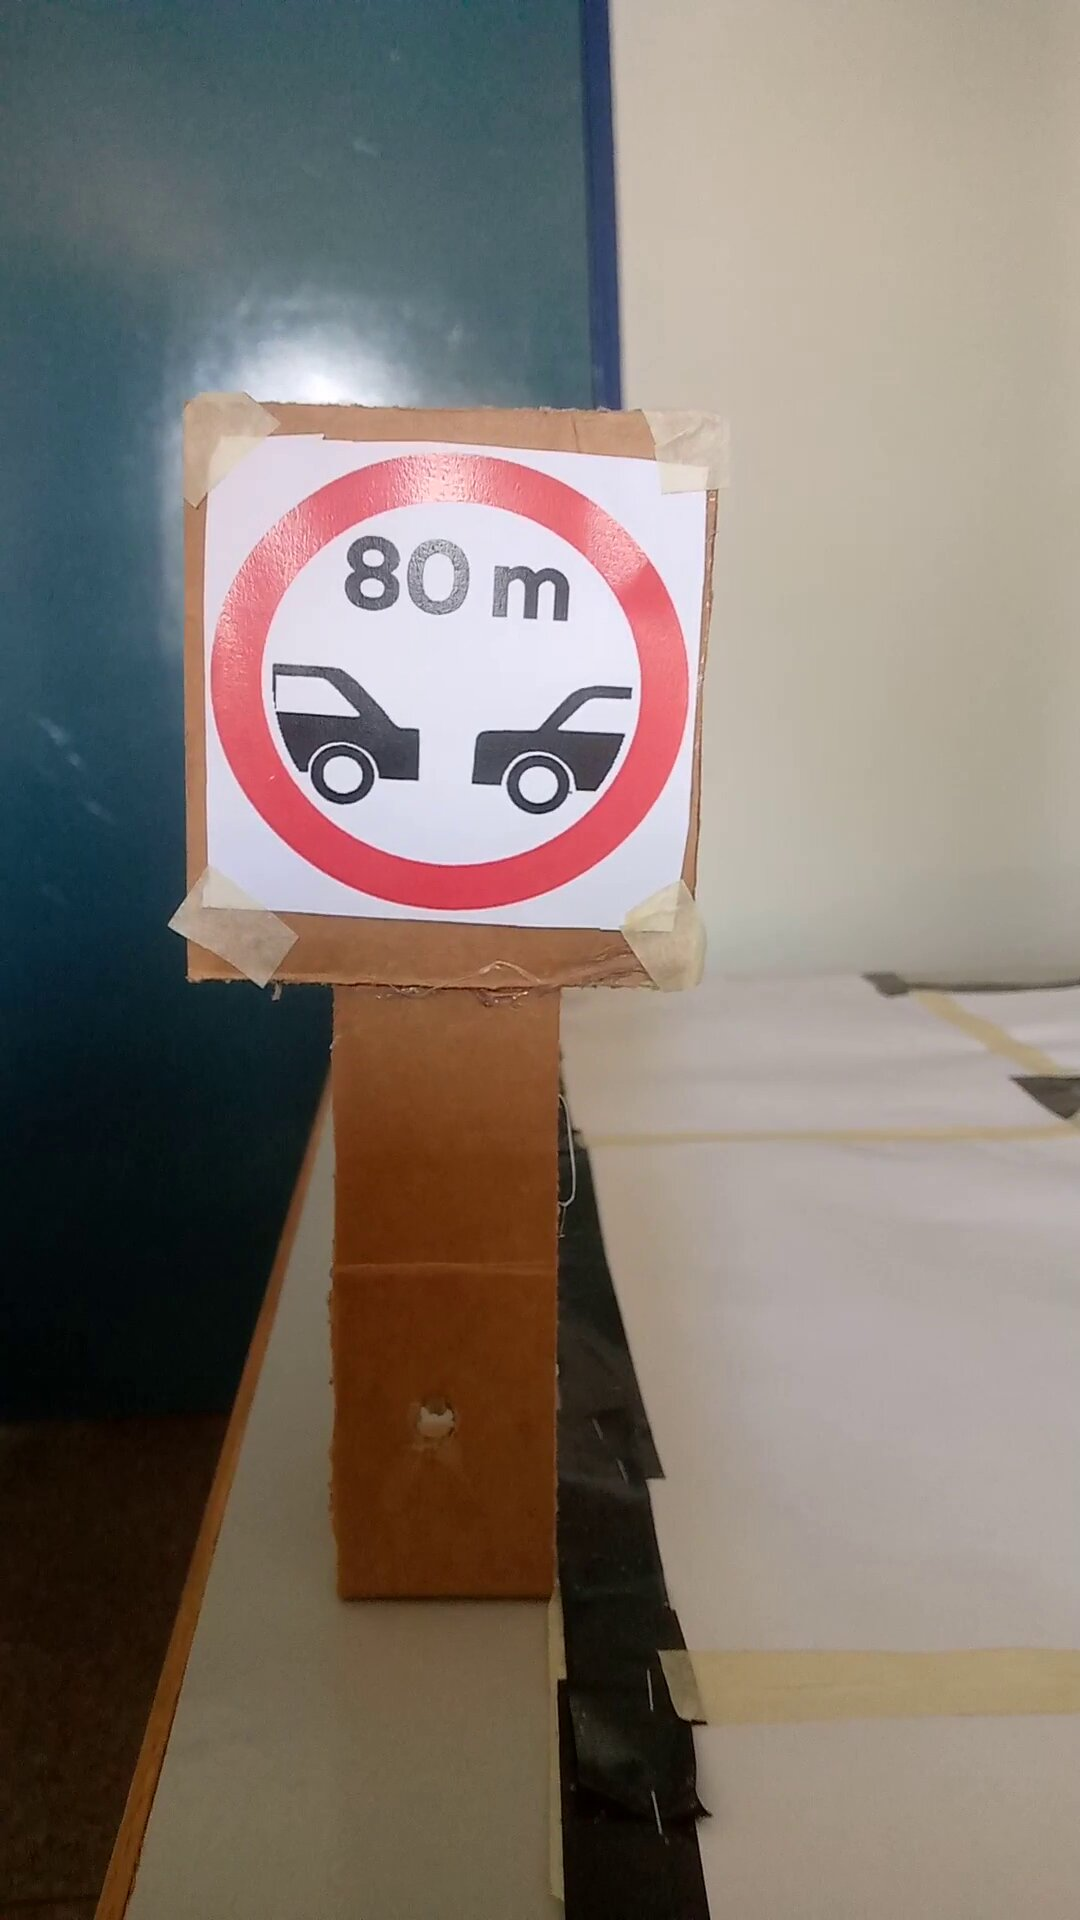panel001: (187, 400, 715, 986)
